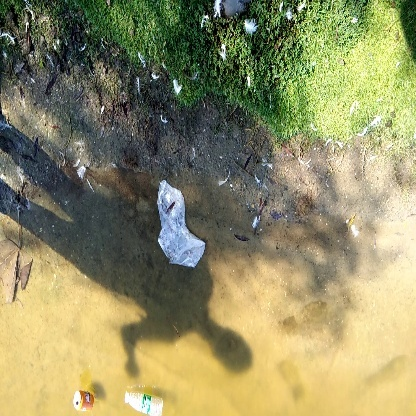bottle: (120, 387, 166, 416), (71, 389, 98, 413)
plastic-bag: (155, 180, 207, 272)
